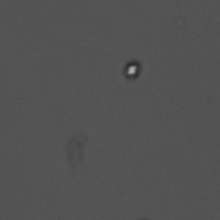Living Cell: (120, 58, 145, 82)
